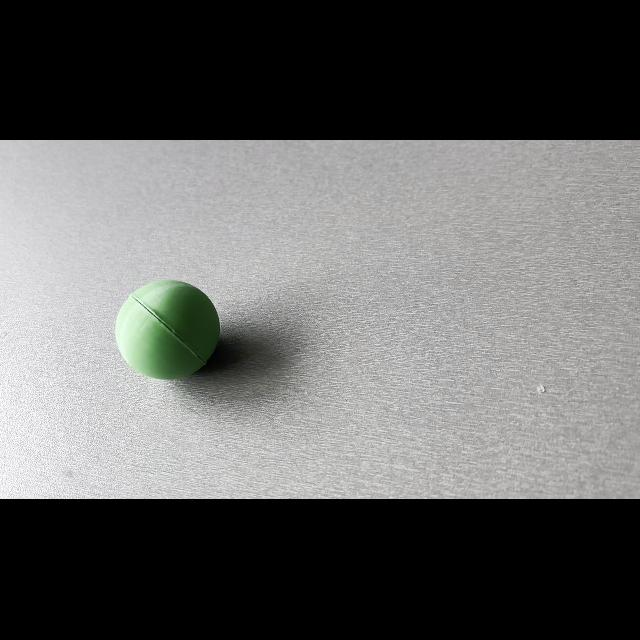objects: (108, 271, 226, 389)
